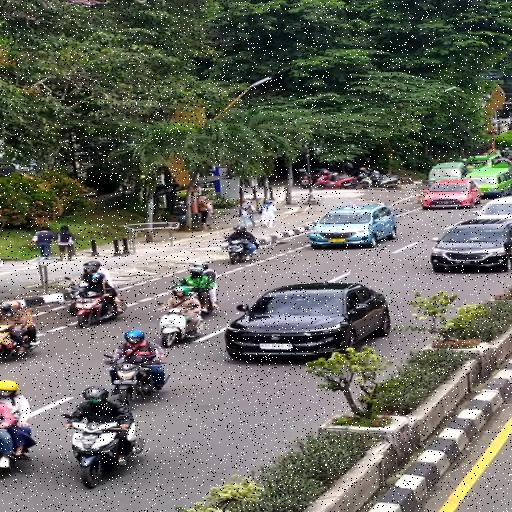Helmet: (83, 386, 108, 403), (0, 380, 19, 397), (124, 330, 145, 343), (84, 260, 100, 271), (190, 266, 204, 278), (172, 286, 189, 295), (84, 265, 97, 275), (0, 302, 12, 311), (193, 263, 208, 270), (91, 273, 103, 281), (11, 301, 20, 310), (202, 262, 210, 270), (234, 226, 246, 231), (322, 169, 329, 175), (176, 201, 184, 205), (360, 168, 366, 171)
Motor: (72, 423, 122, 488), (106, 361, 155, 407), (75, 292, 127, 328), (160, 308, 203, 347), (171, 281, 215, 313), (0, 325, 39, 359), (65, 277, 87, 315), (358, 171, 400, 189), (313, 174, 358, 189), (226, 240, 247, 264), (312, 169, 334, 184), (0, 455, 15, 473)
